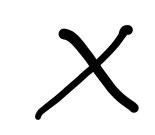mult: (35, 25, 140, 120)
